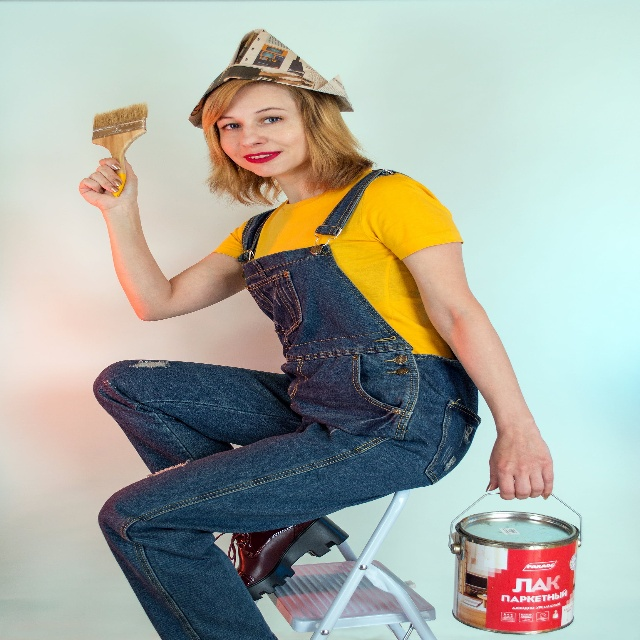Sin_guantes: (485, 415, 554, 502), (79, 150, 139, 214)
